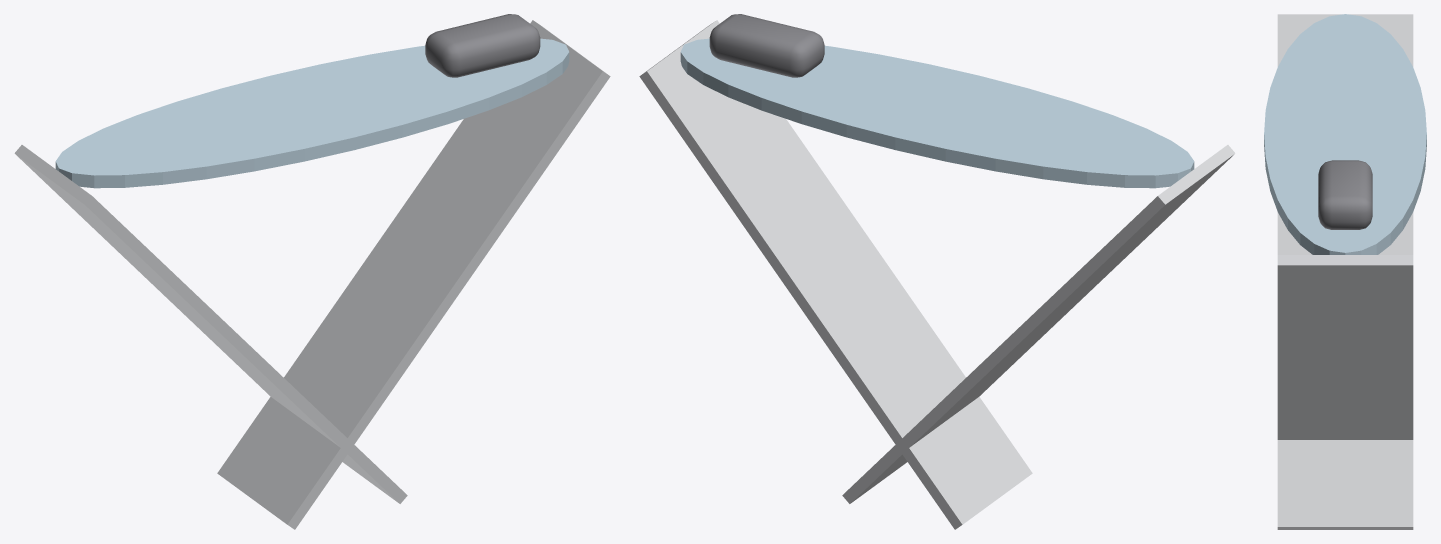
The model's file is ironing_board.glb.
3 renders of one model, left to right at view 1: azimuth 30°, elevation 25°; view 2: azimuth 150°, elevation 25°; view 3: azimuth 270°, elevation 25°, orthographic. The views are drawn at different scales.
Parts seen in each view (by area): view 1: Cube.001, Cylinder, Cube, Cube.002; view 2: Cube.001, Cylinder, Cube, Cube.002; view 3: Cylinder, Cube.001, Cube, Cube.002.
Part boxes in pixels (box(x1,y1,x2,y2)): Cube.001: box(217, 20, 610, 529); Cylinder: box(55, 38, 569, 188); Cube: box(14, 145, 407, 503); Cube.002: box(425, 14, 540, 77); Cube.001: box(639, 20, 1032, 529); Cylinder: box(680, 38, 1194, 188); Cube: box(842, 145, 1235, 503); Cube.002: box(709, 14, 824, 77); Cylinder: box(1264, 14, 1426, 254); Cube.001: box(1277, 255, 1413, 439); Cube: box(1277, 14, 1413, 529); Cube.002: box(1318, 160, 1372, 229).
Bounding box in the file's own units: 1.3 × 0.9918 × 0.36.
